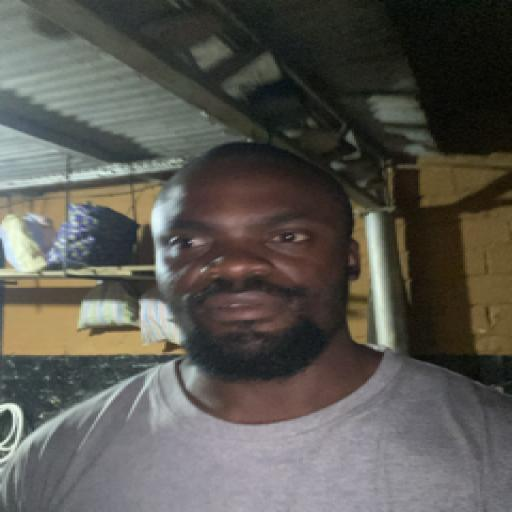JEANLUC: (158, 127, 389, 392)
